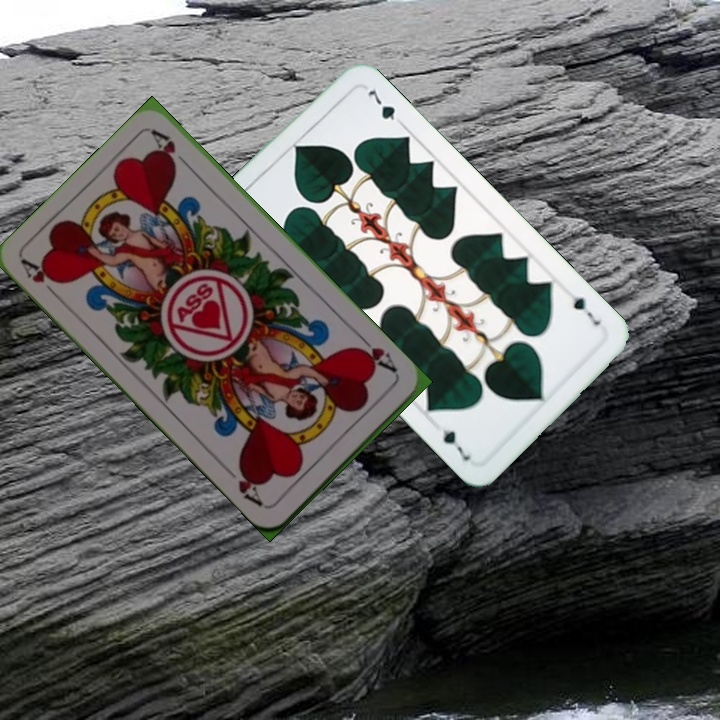G7: (565, 287, 603, 329)
HA: (350, 332, 401, 380), (18, 255, 65, 304)
